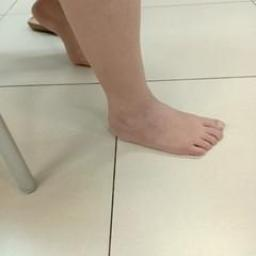Lateral View -Right Foot-: (90, 72, 239, 170)
